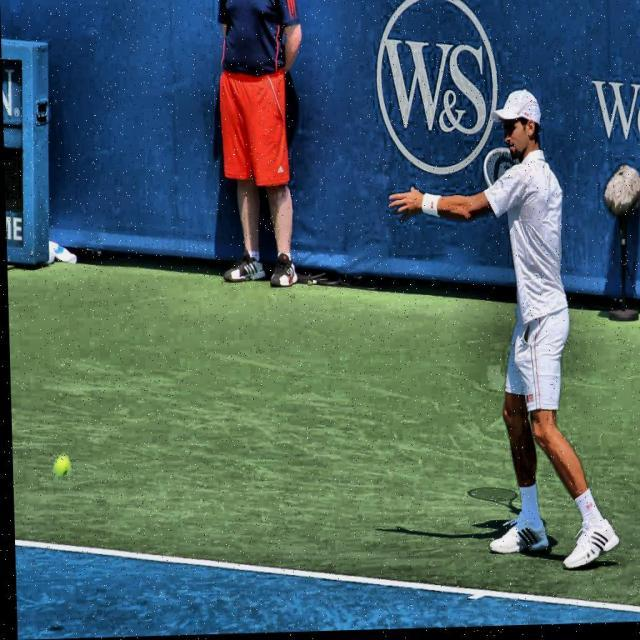tennis-ball: (51, 456, 68, 482)
